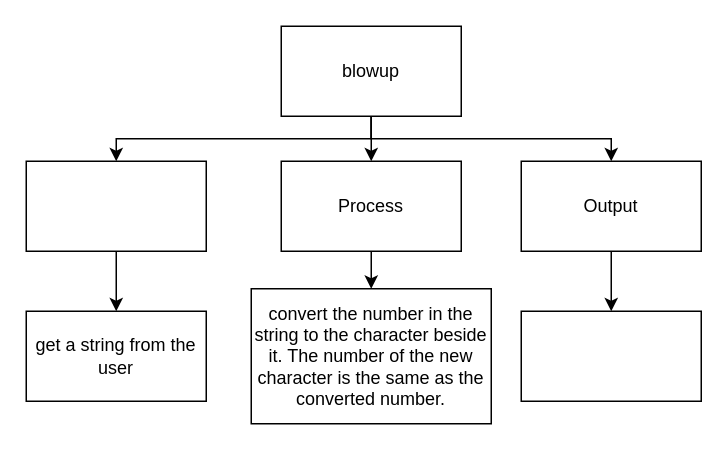
This 728x450 diagram has some shape labels left out. The shapes that lost their labels are listed below. From the top down, each one's centre as x and y in pixels, then its label:
At pixel 115 205: "Input".
At pixel 610 355: "show new string".
